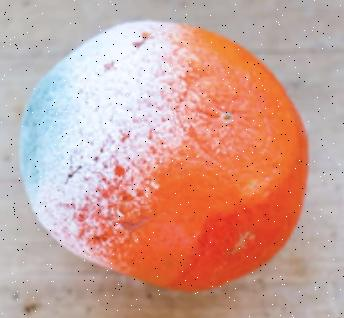Orange Rotten: (18, 10, 319, 288)
